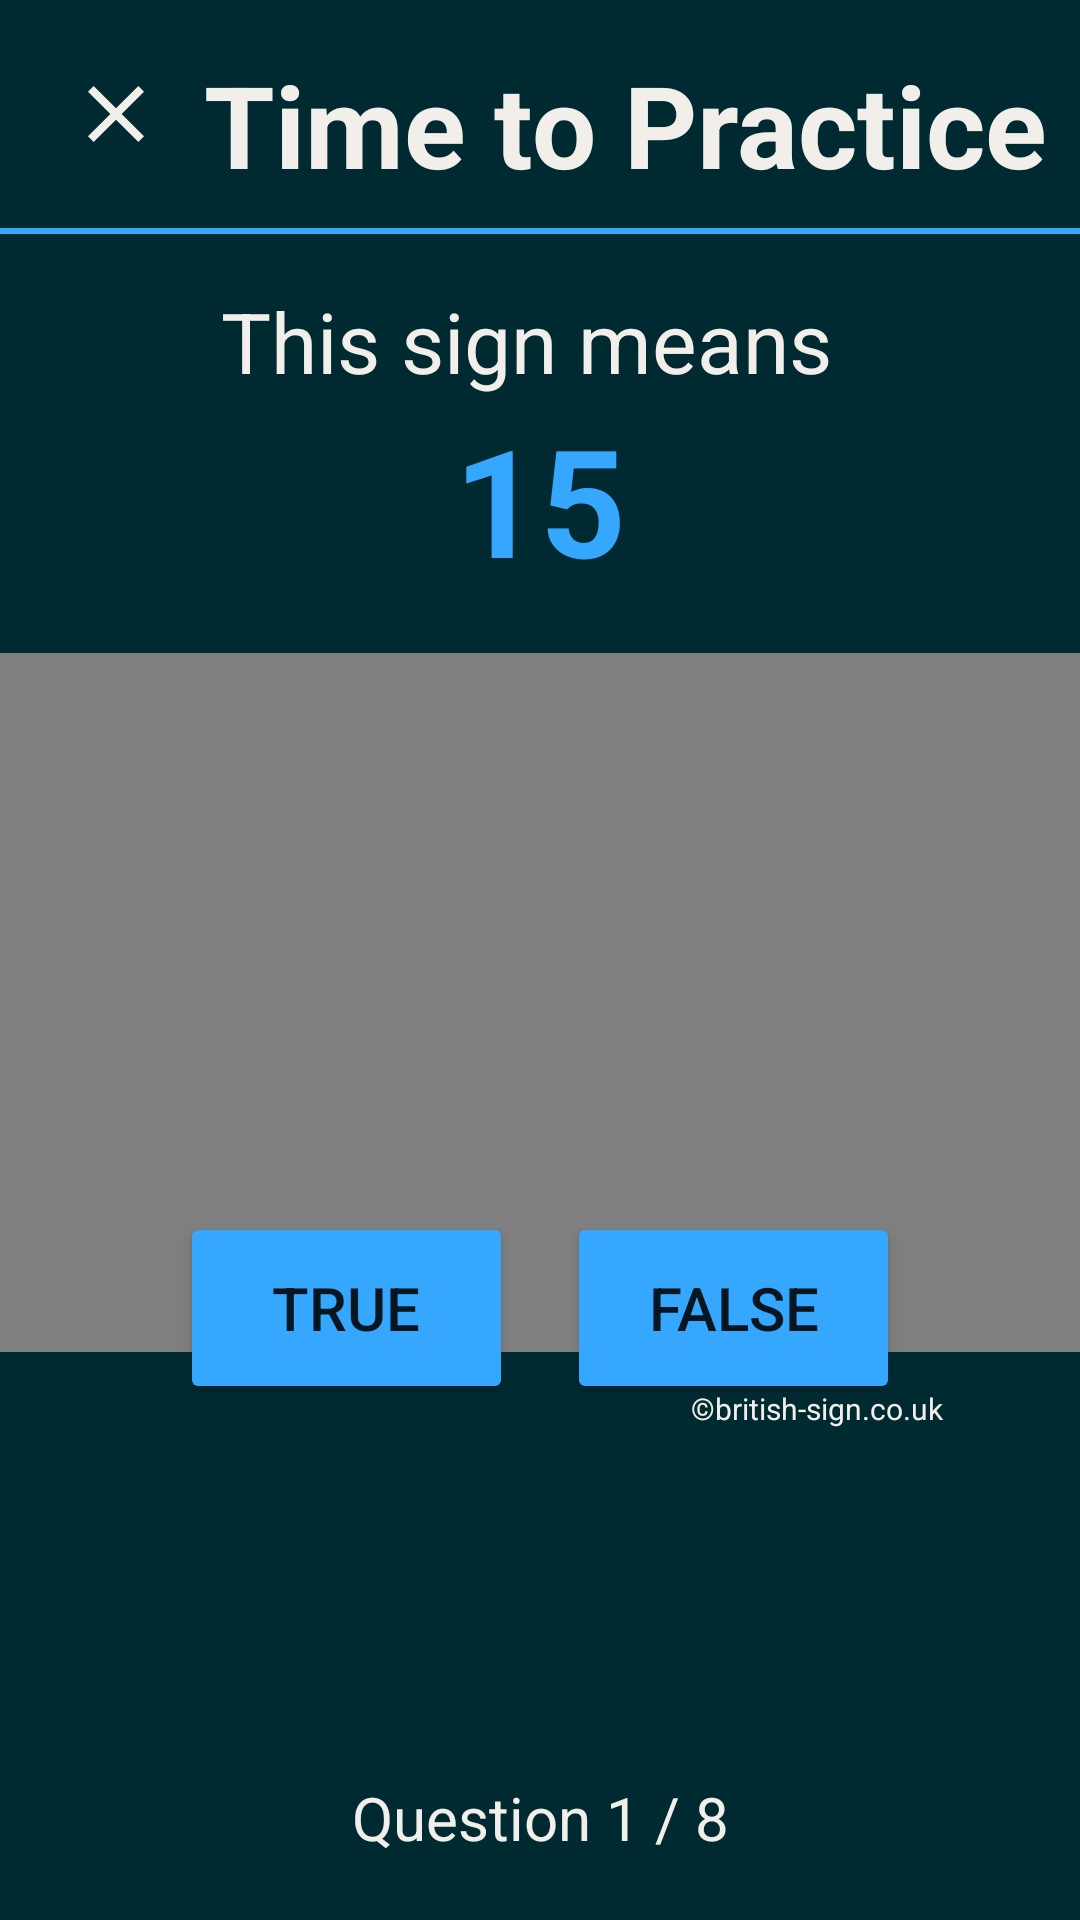

Where icons sit on this 1080 × 1920 app screen, as [x1, y1, x2, y2]:
cross cream: [88, 86, 144, 142]
